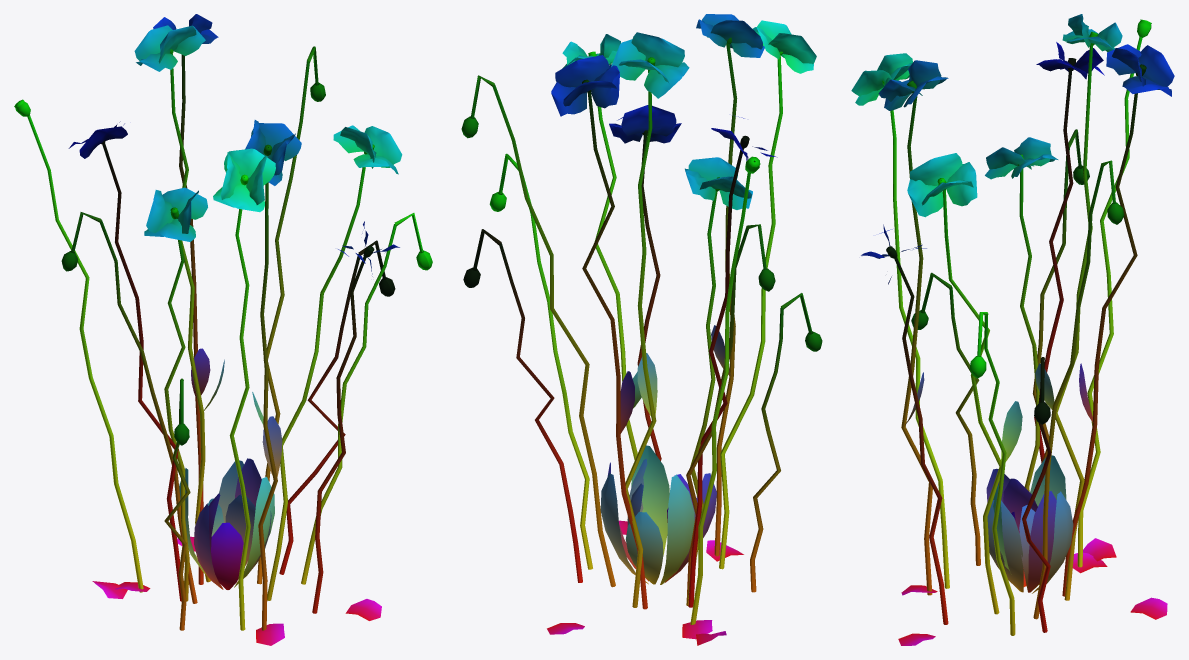
Rendered from SM_Flower_Poppy_C.fbx.
The picture shows the model from 3 angles, left to right: view 1: azimuth 30°, elevation 25°; view 2: azimuth 150°, elevation 25°; view 3: azimuth 270°, elevation 25°; orthographic projection. The views are drawn at different scales.
Visible parts, largest first — view 1: SM_Flower_Poppy_C; view 2: SM_Flower_Poppy_C; view 3: SM_Flower_Poppy_C.
Part boxes in pixels (left/top/right/bottom): SM_Flower_Poppy_C: left=14, top=14, right=432, bottom=645; SM_Flower_Poppy_C: left=461, top=14, right=822, bottom=645; SM_Flower_Poppy_C: left=851, top=14, right=1174, bottom=645.
Bounding box in the file's own units: 0.4095 × 0.6476 × 0.3306.
